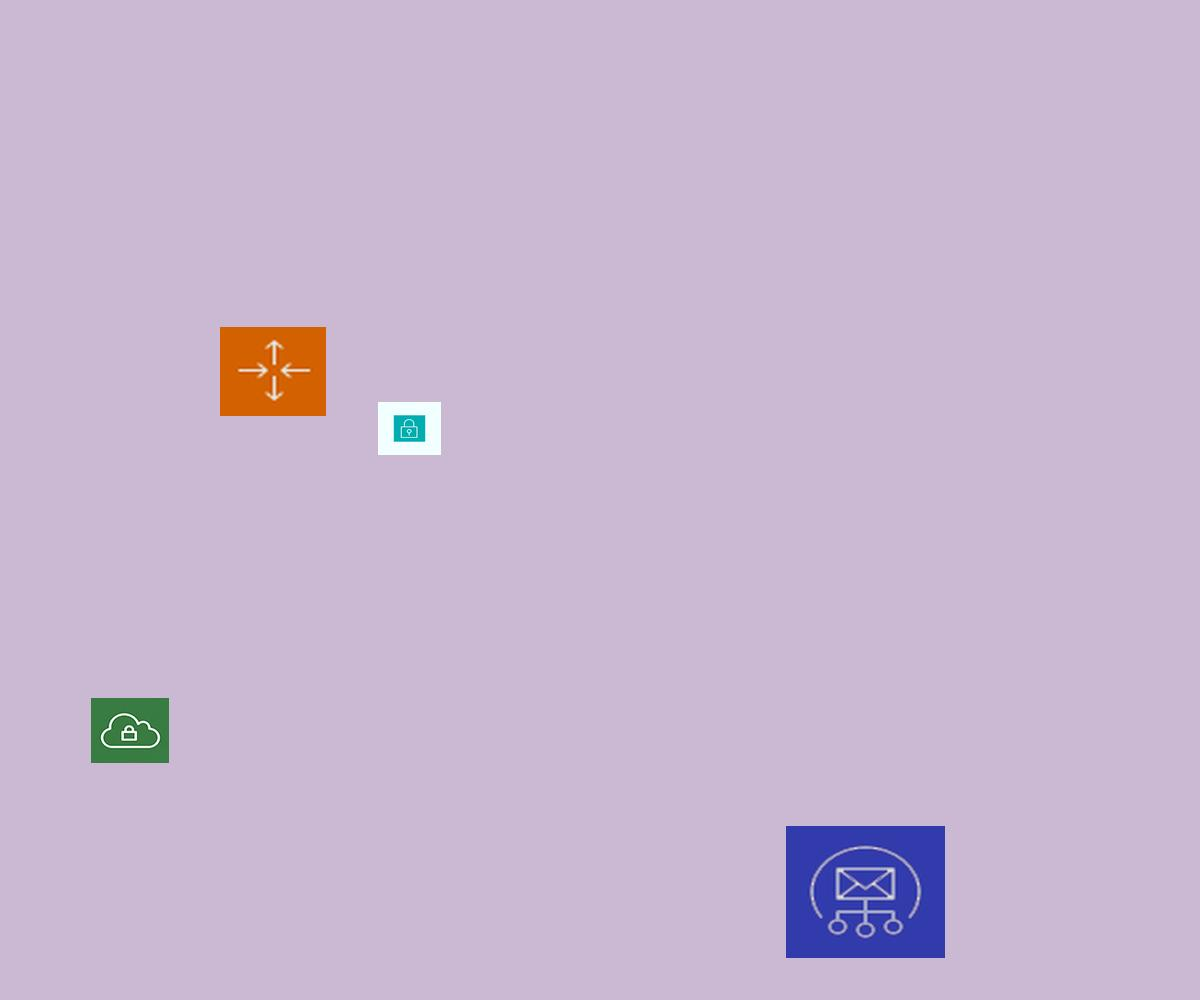AWS-Private-subnet: (378, 402, 441, 455)
AWS-Private_vpc: (91, 698, 169, 763)
AWS-Scaling-group: (220, 327, 326, 416)
AWS-Simple-Email-Service: (786, 826, 945, 958)
